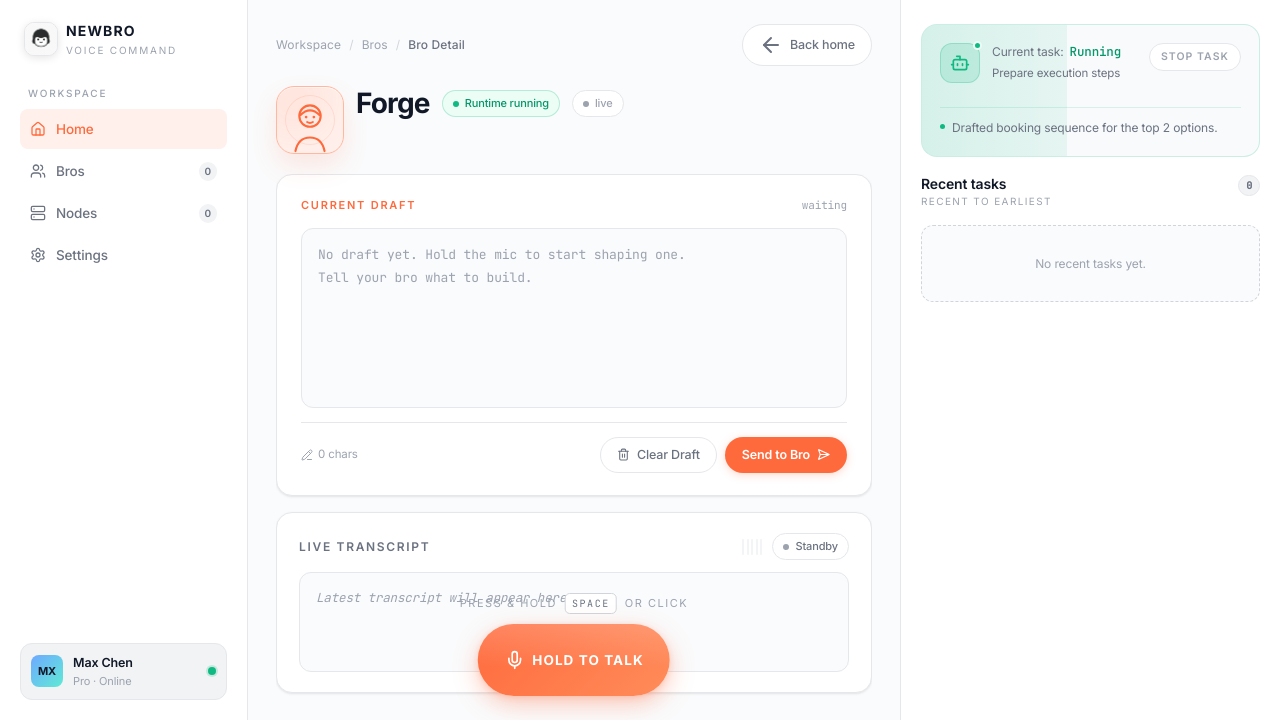
Test: Newbro voice shell › keeps only the latest textTs for each timed Chinese Bro detail sentence
The image size is (1280, 720).
Press the mouse on the button "Hold to Talk": [574, 660] box [478,624,670,696]
Wait 2400 ms
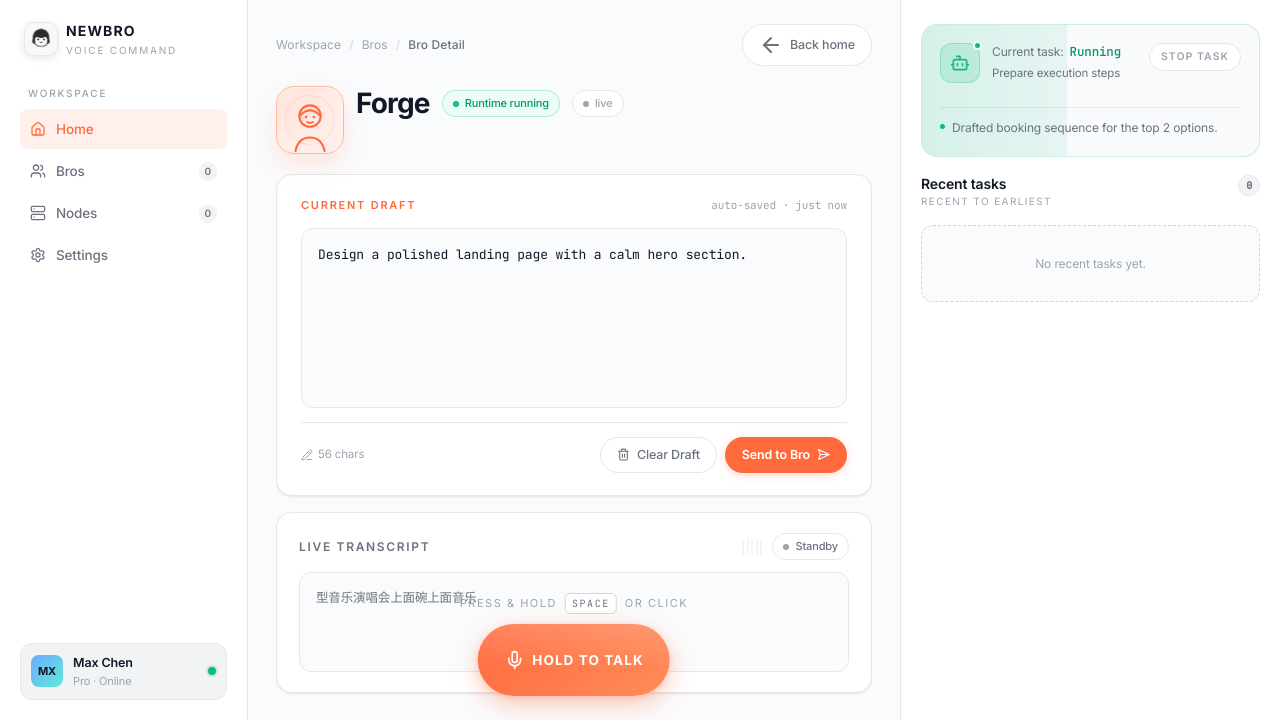
Expected: the text "型音乐演唱会上面碗上面音乐" is shown, [299,572,849,672]
